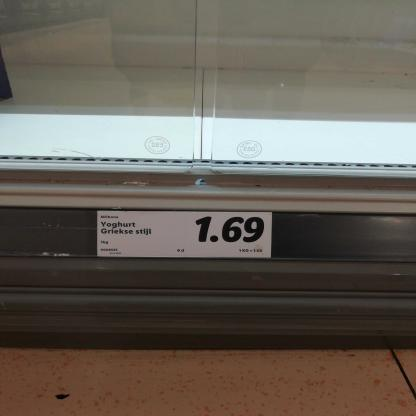prtg: (98, 211, 273, 259)
